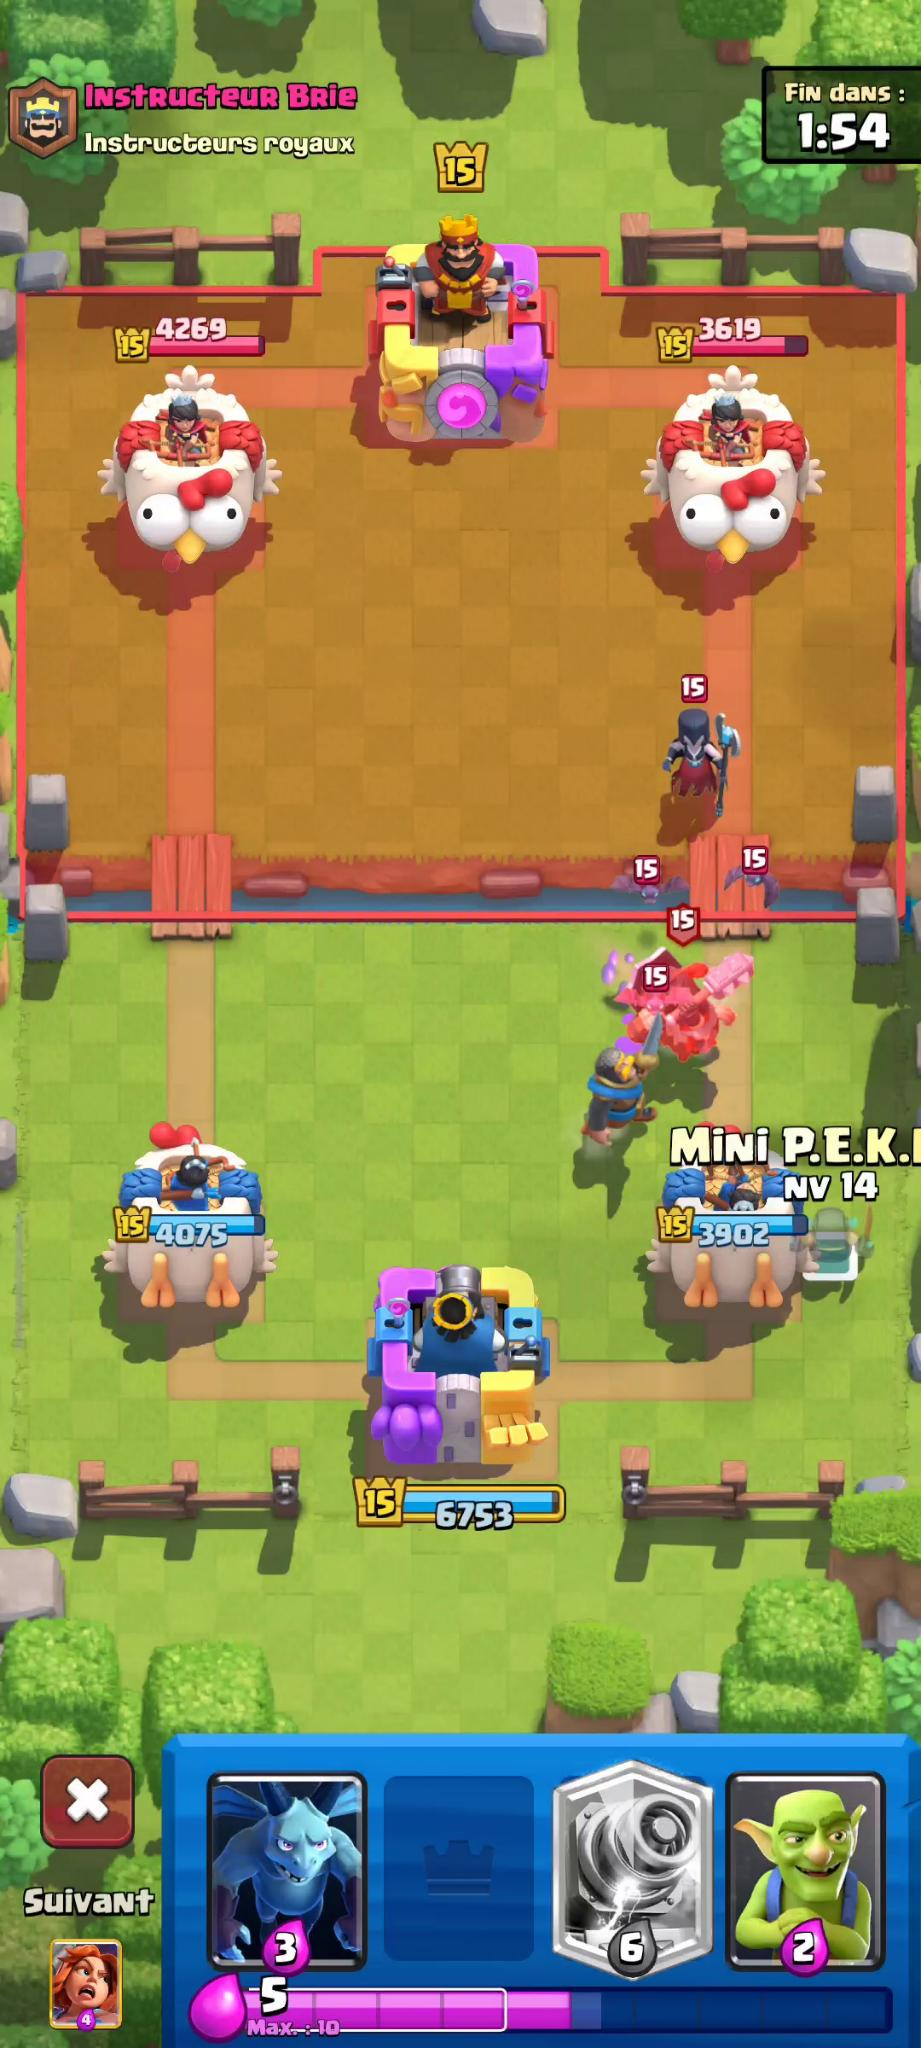bat: (602, 857, 695, 909), (720, 853, 789, 904)
chevalier: (570, 1006, 675, 1174)
mini_PEKKA: (793, 1202, 875, 1300)
